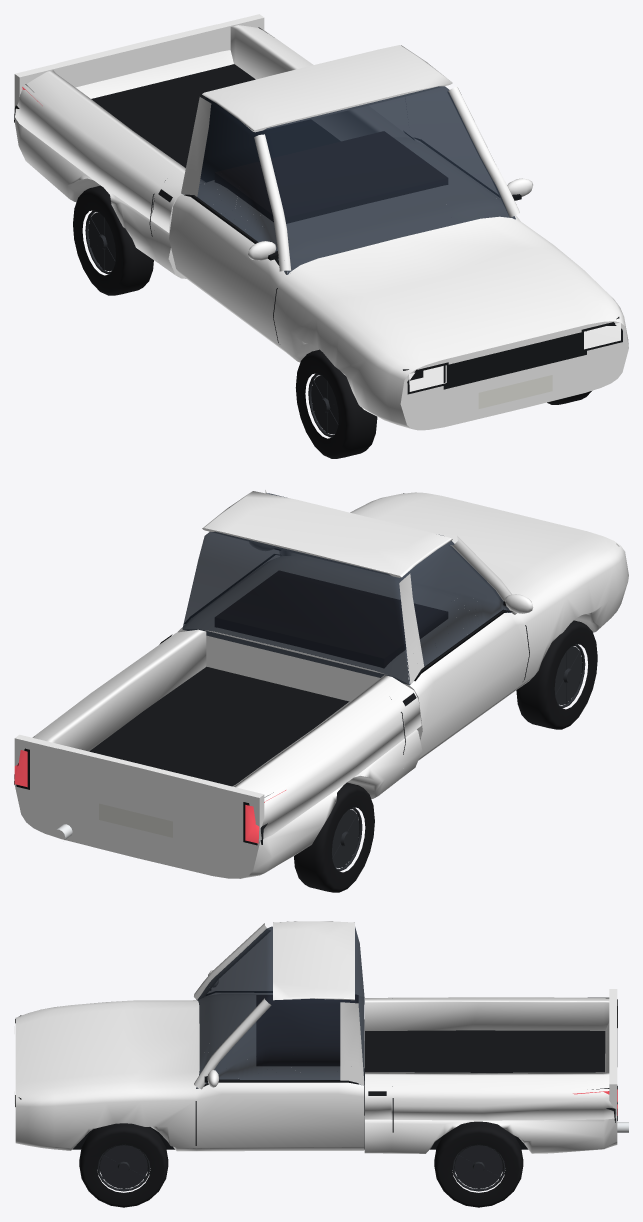
Rendered from granforge_packmule.lod.glb.
3 renders of one model, top to bottom at view 1: azimuth 30°, elevation 25°; view 2: azimuth 150°, elevation 25°; view 3: azimuth 270°, elevation 25°, orthographic. The views are drawn at different scales.
Visible parts, largest first — view 1: body_paint, body_glass, body_trim, door_paint, tire (×2), door_glass (×2), rim (×2), headlights; view 2: body_paint, body_trim, body_glass, door_paint, tire (×2), rim (×2), door_glass, taillights; view 3: body_paint, body_trim, door_paint, body_glass, tire (×2), rim (×2), door_glass.
Boxes of the visible parts, x1=… form: body_paint: x1=14, y1=14, x2=628, y2=430; body_glass: x1=198, y1=86, x2=501, y2=274; body_trim: x1=14, y1=27, x2=622, y2=408; door_paint: x1=151, y1=170, x2=289, y2=351; tire (×2): x1=73, y1=185, x2=377, y2=458; door_glass (×2): x1=183, y1=158, x2=515, y2=274; rim (×2): x1=85, y1=210, x2=338, y2=437; headlights: x1=409, y1=322, x2=620, y2=391; body_paint: x1=14, y1=490, x2=628, y2=878; body_trim: x1=14, y1=493, x2=618, y2=845; body_glass: x1=182, y1=493, x2=498, y2=684; door_paint: x1=398, y1=593, x2=528, y2=779; tire (×2): x1=294, y1=620, x2=597, y2=892; rim (×2): x1=332, y1=644, x2=585, y2=871; door_glass: x1=407, y1=595, x2=511, y2=685; taillights: x1=14, y1=750, x2=285, y2=843; body_paint: x1=15, y1=921, x2=617, y2=1153; body_trim: x1=15, y1=991, x2=617, y2=1149; door_paint: x1=196, y1=1063, x2=391, y2=1153; body_glass: x1=196, y1=926, x2=364, y2=1084; tire (×2): x1=79, y1=1121, x2=523, y2=1207; rim (×2): x1=97, y1=1144, x2=505, y2=1191; door_glass: x1=196, y1=1043, x2=363, y2=1088.
Bounding box in the file's own units: 2.01 × 1.7 × 4.7.
